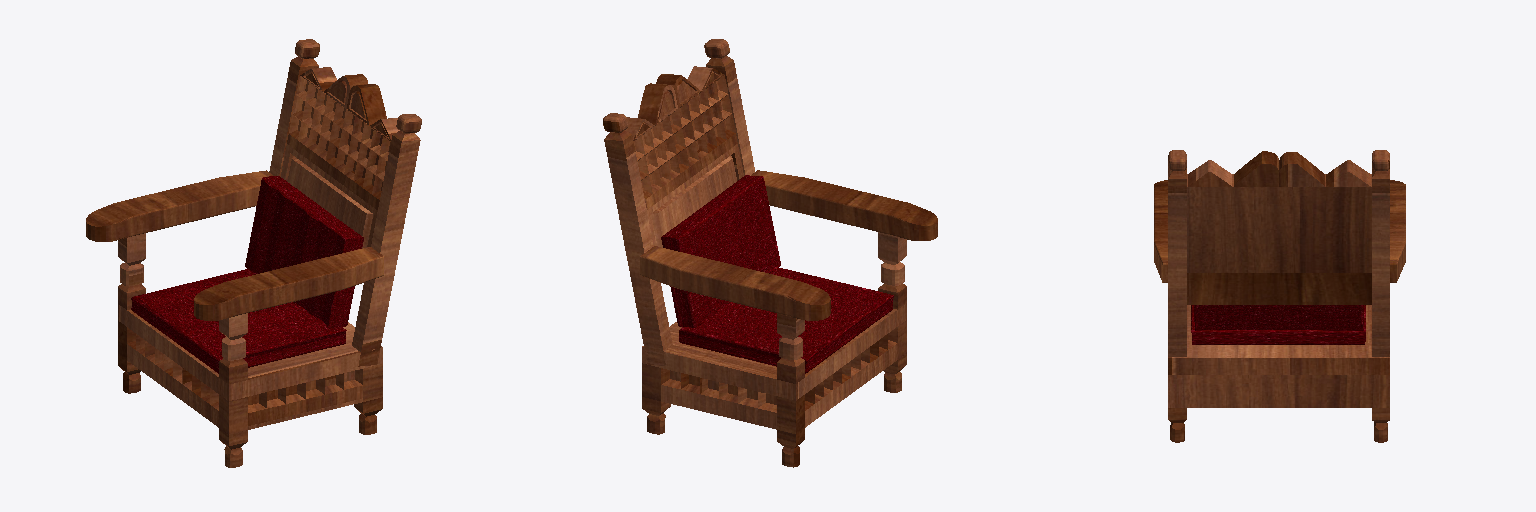
The picture shows the model from 3 angles: view 1: azimuth 30°, elevation 25°; view 2: azimuth 150°, elevation 25°; view 3: azimuth 270°, elevation 25°; orthographic projection.
Visible parts, largest first — view 1: Cuadro:Cuadro:SillonM1; view 2: Cuadro:Cuadro:SillonM1; view 3: Cuadro:Cuadro:SillonM1.
Boxes of the visible parts, x1,y1,x2,y2 form: Cuadro:Cuadro:SillonM1: [86, 39, 421, 467]; Cuadro:Cuadro:SillonM1: [603, 39, 937, 467]; Cuadro:Cuadro:SillonM1: [1154, 150, 1405, 442].
Size of the model in its own units: 0.7162 by 0.9163 by 0.6848.
Materials: 2 (2 with a texture image).